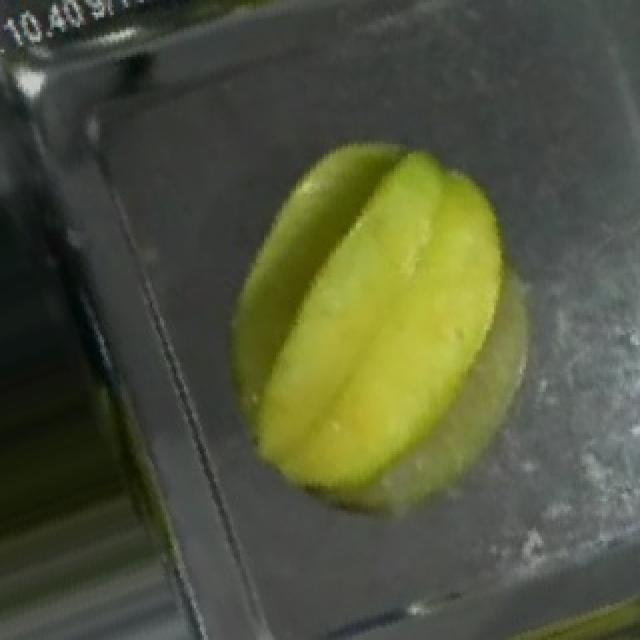fruit: (200, 109, 588, 543)
